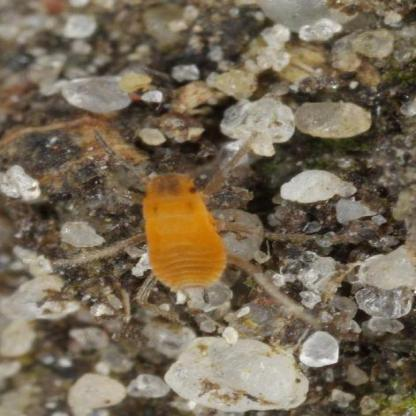aphid: (90, 154, 305, 316)
